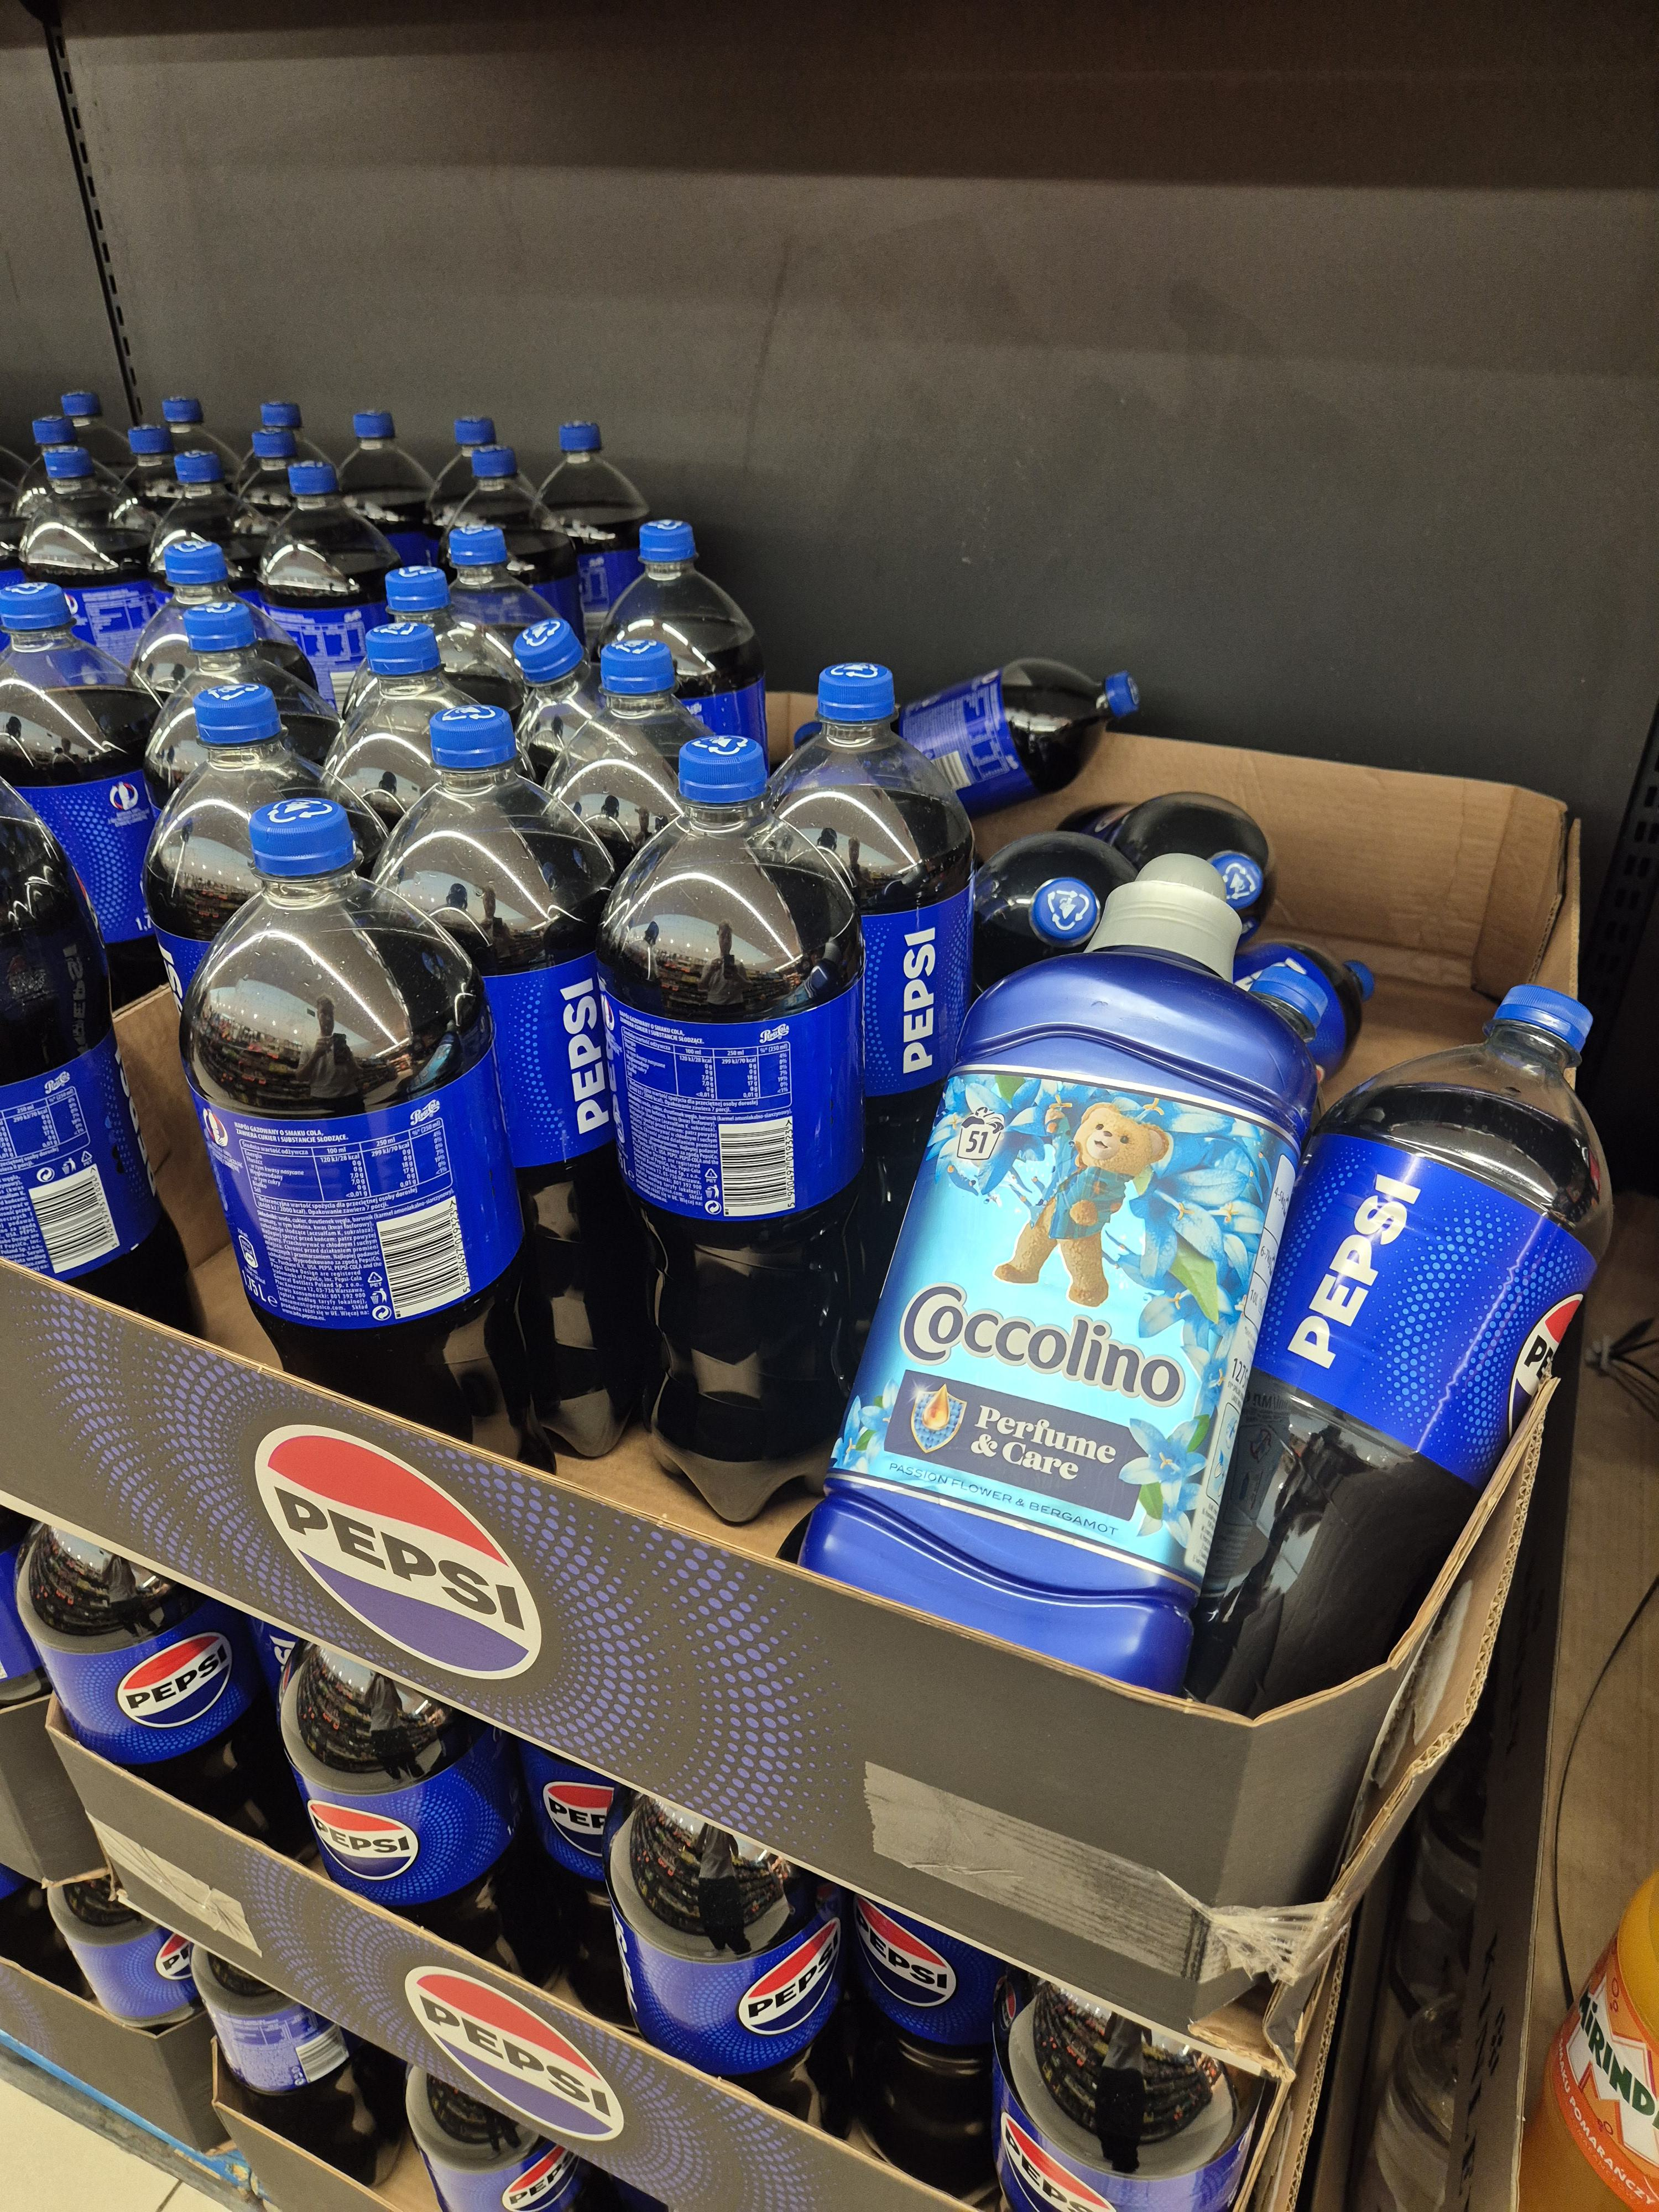cocolino: (884, 843, 1263, 1696)
